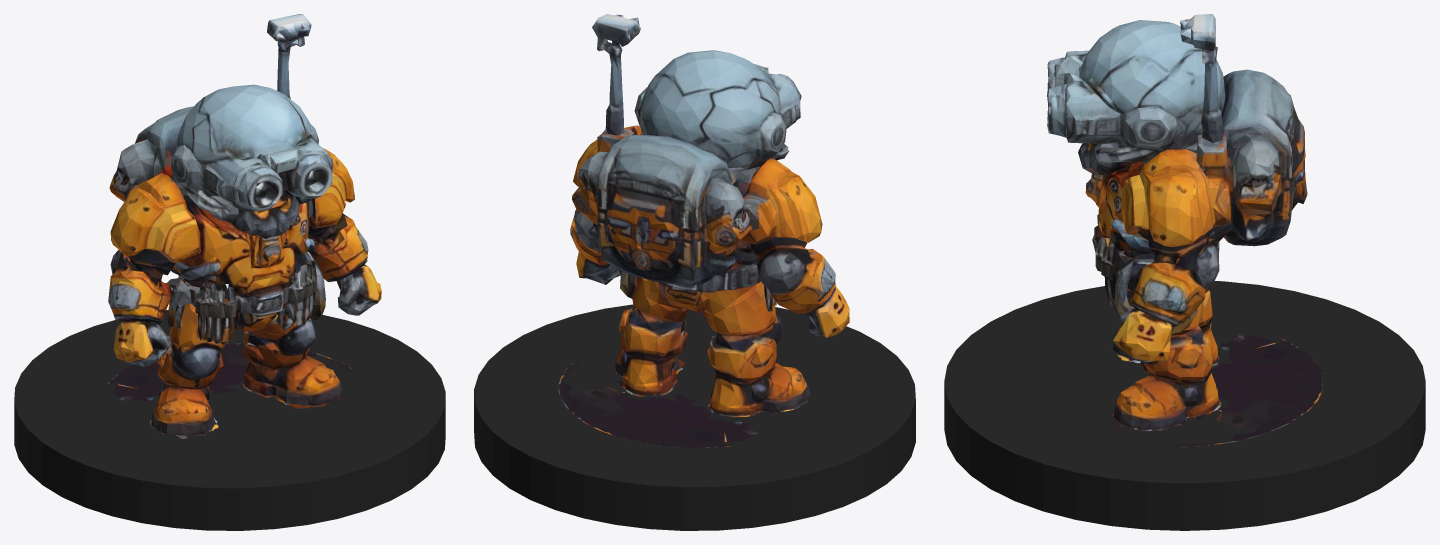
The model's file is hk-lokatr.glb.
3 views of the same model, side by side, from view 1: azimuth 30°, elevation 25°; view 2: azimuth 150°, elevation 25°; view 3: azimuth 270°, elevation 25° (orthographic). The views are drawn at different scales.
Parts seen in each view (by area): view 1: figure, base; view 2: figure, base; view 3: base, figure.
Boxes of the visible parts, box(x1,y1,x2,y2) form: figure: box(108, 14, 381, 438); base: box(14, 310, 445, 530); figure: box(558, 14, 849, 447); base: box(474, 304, 915, 530); base: box(944, 281, 1425, 530); figure: box(1047, 14, 1322, 447).
Bounding box in the file's own units: 1.1 × 1.12 × 1.1.
Materials: 2 (1 with a texture image).
